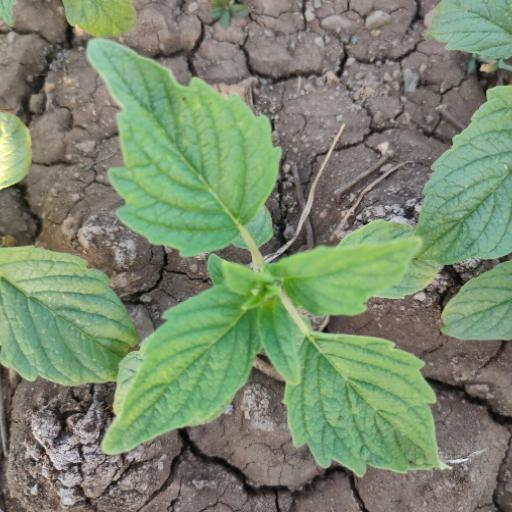crop: (78, 36, 449, 476)
